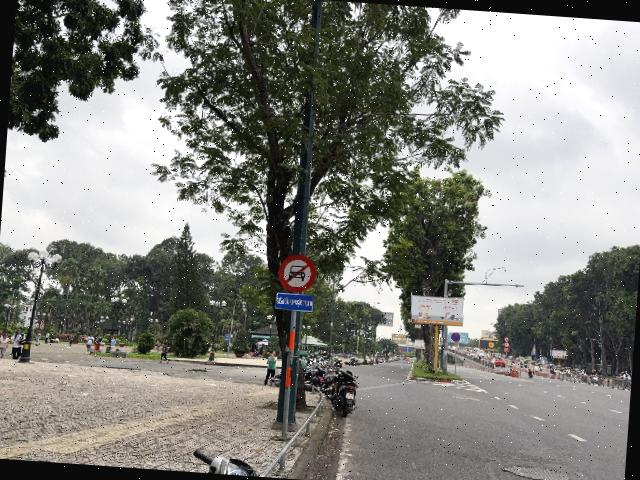cam-o-to: (276, 254, 316, 294)
